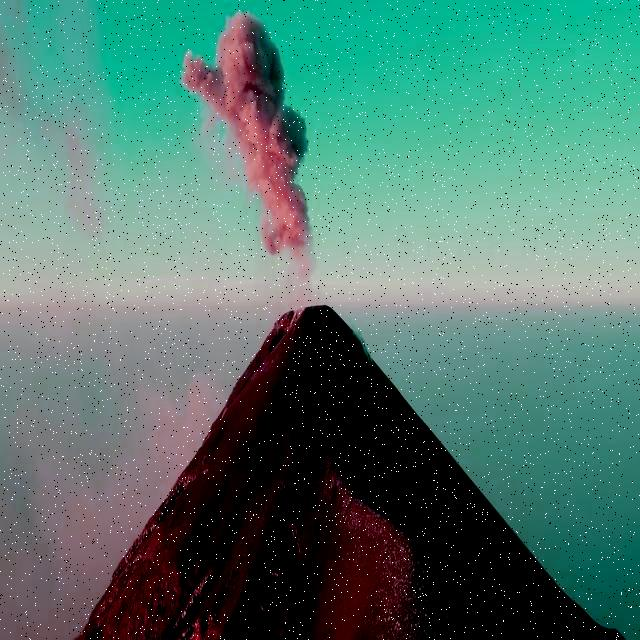Plume: (178, 7, 324, 292)
Summit: (59, 298, 640, 640)
